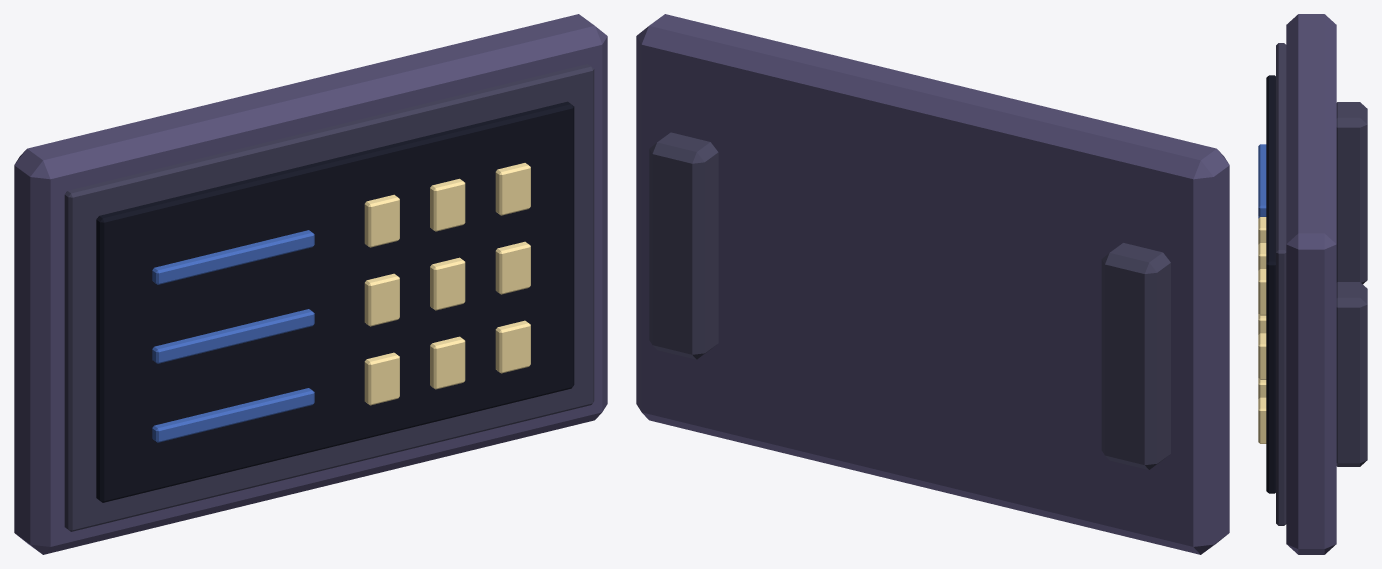
Rendered from 12_Wall_Scoreboard.glb.
3 views of the same model, side by side, from view 1: azimuth 30°, elevation 25°; view 2: azimuth 150°, elevation 25°; view 3: azimuth 270°, elevation 25° (orthographic). The views are drawn at different scales.
Visible parts, largest first — view 1: 12_Wall_Scoreboard__Body; view 2: 12_Wall_Scoreboard__Body; view 3: 12_Wall_Scoreboard__Body.
Boxes of the visible parts, box(x1,y1,x2,y2) form: 12_Wall_Scoreboard__Body: box(14, 14, 607, 554); 12_Wall_Scoreboard__Body: box(636, 14, 1229, 554); 12_Wall_Scoreboard__Body: box(1258, 14, 1367, 554).
Bounding box in the file's own units: 2.91 × 1.9 × 0.584.
1 material, 1 textured.
